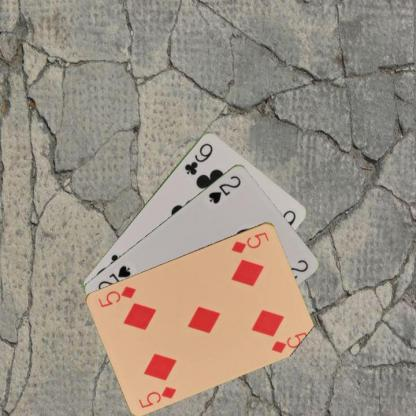2s: (206, 172, 242, 205)
5d: (136, 383, 178, 409), (229, 229, 270, 254)
9c: (181, 140, 214, 176)
